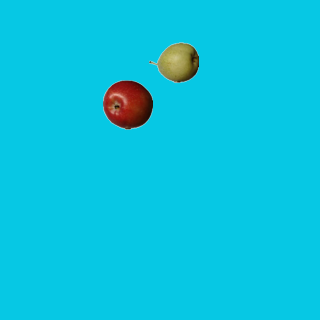Apple Braeburn: (102, 79, 152, 129)
Pear: (148, 37, 198, 87)
